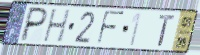1: (129, 11, 143, 48)
2: (74, 10, 97, 45)
F: (95, 9, 126, 47)
H: (41, 8, 72, 44)
P: (18, 6, 50, 44)
T: (157, 14, 177, 48)
